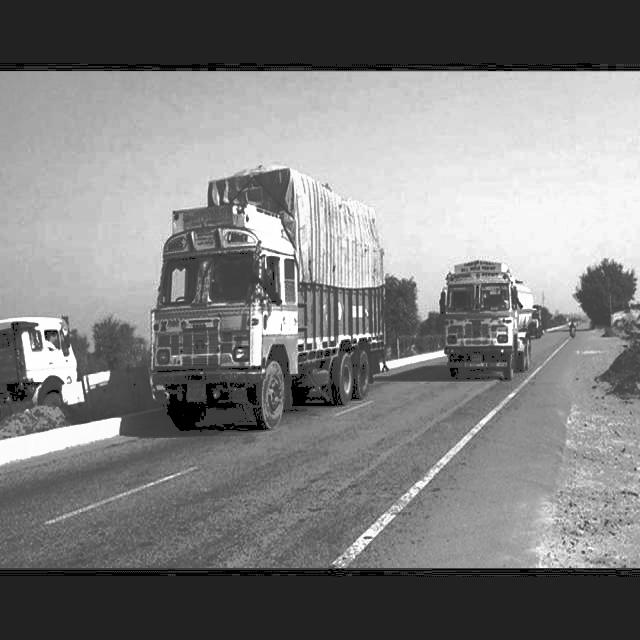HCV: (113, 124, 399, 448), (437, 235, 551, 410)
